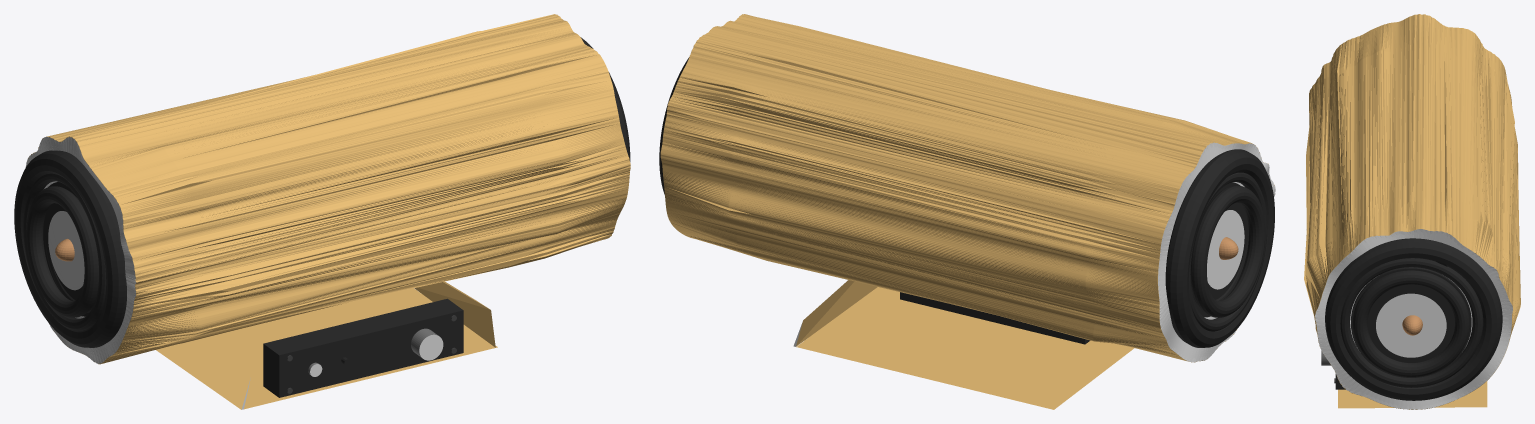
Rendered from nenrin-speaker-new.glb.
The picture shows the model from 3 angles, left to right: view 1: azimuth 30°, elevation 25°; view 2: azimuth 150°, elevation 25°; view 3: azimuth 270°, elevation 25°; orthographic projection. The views are drawn at different scales.
Visible parts, largest first — view 1: cedar_bright, matte_black, matte_black.008, rubber_surround.003, endgrain_wood, matte_black.005, wood_cone.004, matte_black.009; view 2: cedar_bright, matte_black.008, rubber_surround.003, endgrain_wood, wood_cone.004, matte_black.005, matte_black, matte_black.009; view 3: cedar_bright, matte_black.001, endgrain_wood, rubber_surround.002, matte_black.003, wood_cone.003, matte_black, copper_cap.
Boxes of the visible parts, x1=… form: cedar_bright: x1=28, y1=14, x2=630, y2=409; matte_black: x1=263, y1=298, x2=463, y2=397; matte_black.008: x1=14, y1=150, x2=126, y2=347; rubber_surround.003: x1=26, y1=186, x2=98, y2=317; endgrain_wood: x1=25, y1=137, x2=136, y2=363; matte_black.005: x1=23, y1=173, x2=106, y2=330; wood_cone.004: x1=48, y1=211, x2=84, y2=290; matte_black.009: x1=43, y1=182, x2=89, y2=316; cedar_bright: x1=660, y1=14, x2=1274, y2=409; matte_black.008: x1=1165, y1=149, x2=1274, y2=347; rubber_surround.003: x1=1190, y1=186, x2=1265, y2=317; endgrain_wood: x1=1158, y1=142, x2=1275, y2=362; wood_cone.004: x1=1207, y1=210, x2=1244, y2=289; matte_black.005: x1=1188, y1=172, x2=1267, y2=331; matte_black: x1=900, y1=292, x2=1090, y2=344; matte_black.009: x1=1192, y1=182, x2=1248, y2=317; cedar_bright: x1=1304, y1=14, x2=1520, y2=409; matte_black.001: x1=1325, y1=238, x2=1502, y2=400; endgrain_wood: x1=1315, y1=229, x2=1512, y2=409; rubber_surround.002: x1=1352, y1=270, x2=1469, y2=377; matte_black.003: x1=1340, y1=258, x2=1483, y2=387; wood_cone.003: x1=1376, y1=293, x2=1446, y2=357; matte_black: x1=1335, y1=267, x2=1471, y2=389; copper_cap: x1=1402, y1=315, x2=1422, y2=335.
Size of the model in its own units: 0.3203 by 0.1486 by 0.1252.
